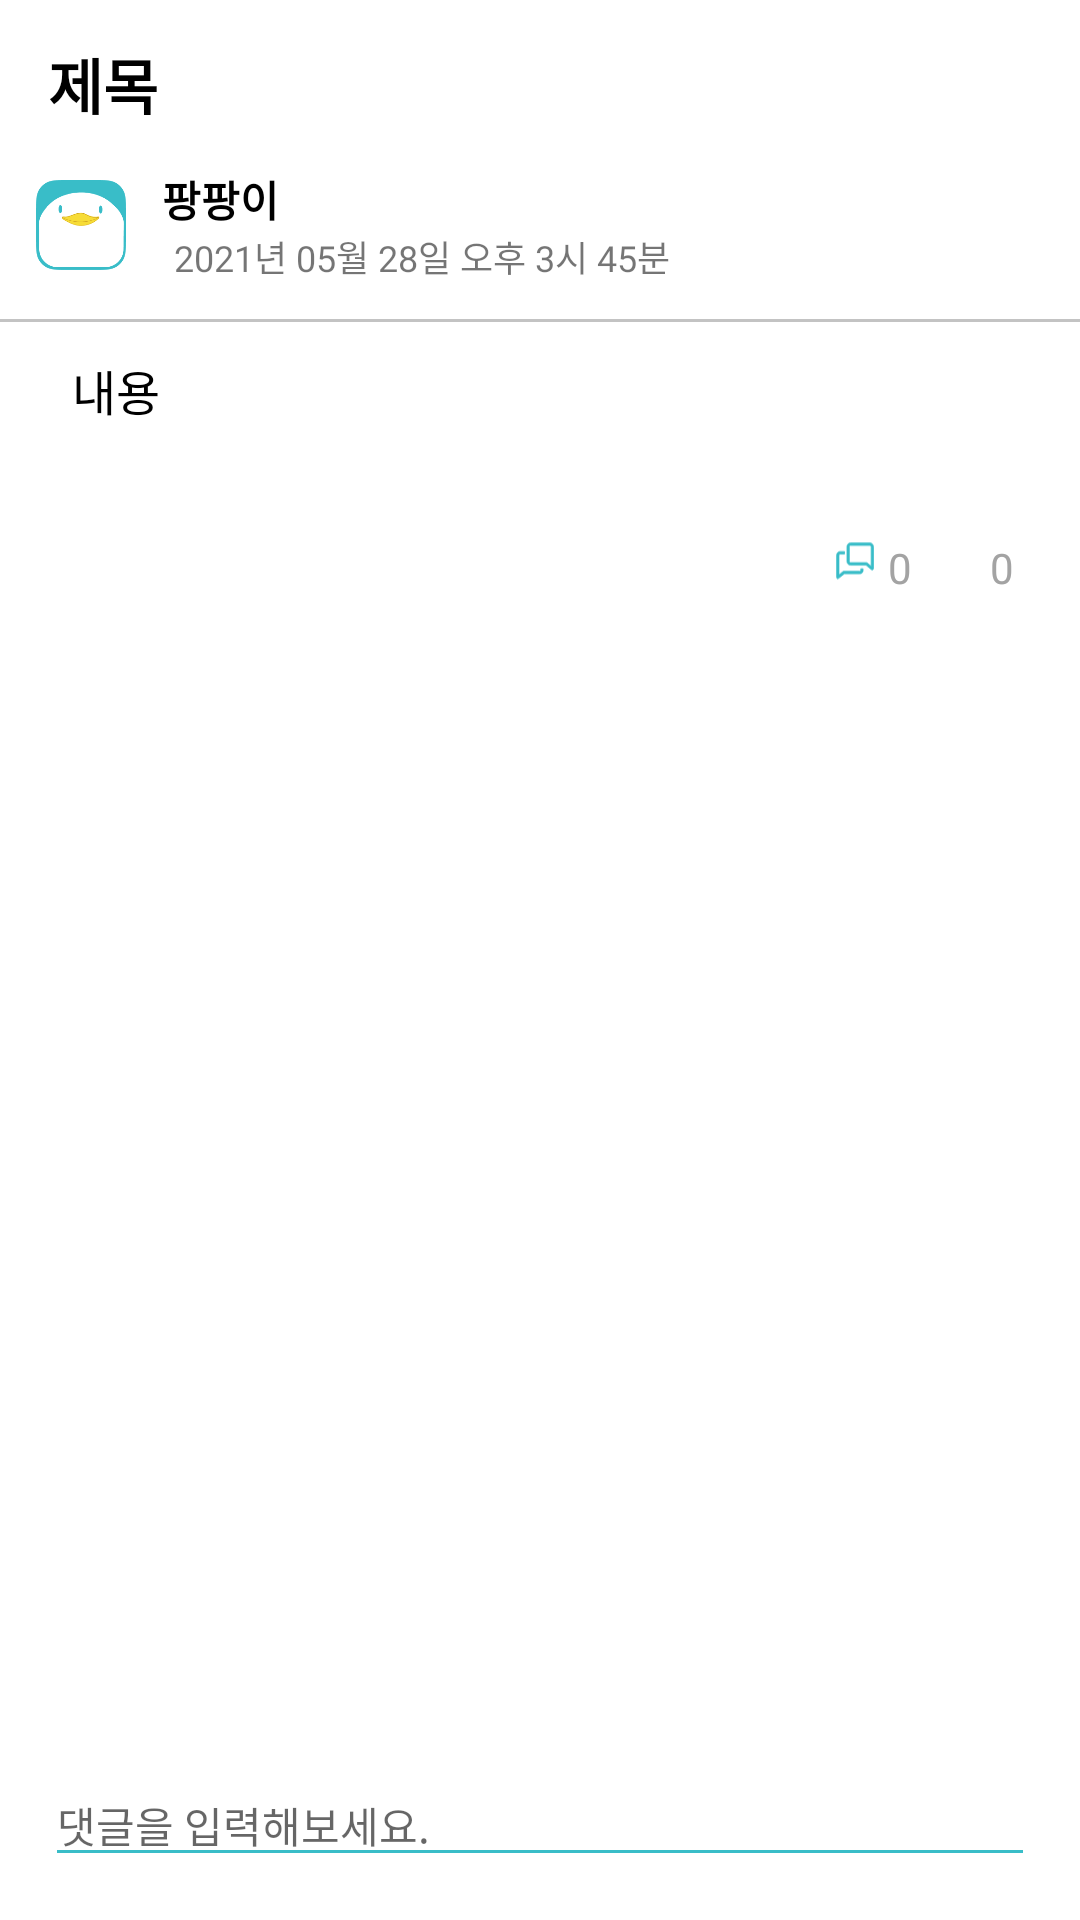

Icons on this 1080w x 1920h Android screen, each with the point to tap as (x,y):
board comments: (855,561)
board user: (81,225)
